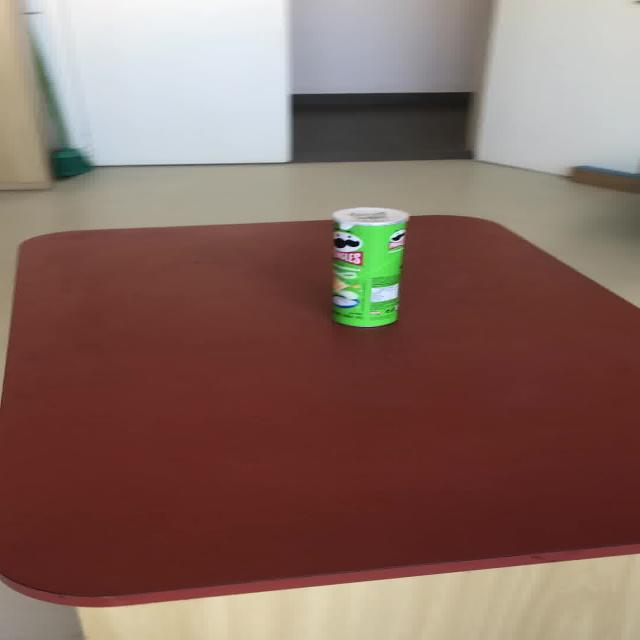pringles: (328, 206, 408, 327)
